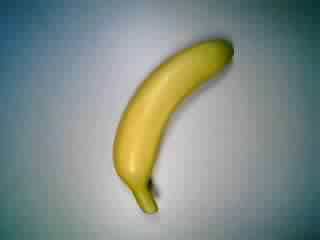banana: (112, 34, 241, 220)
